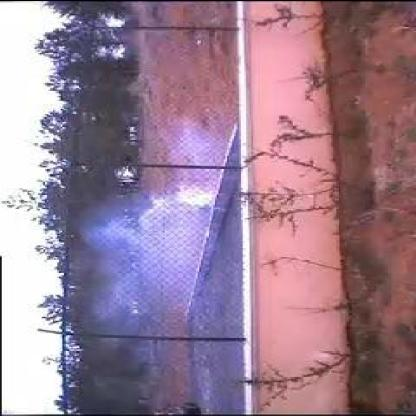-: (77, 131, 219, 330)
